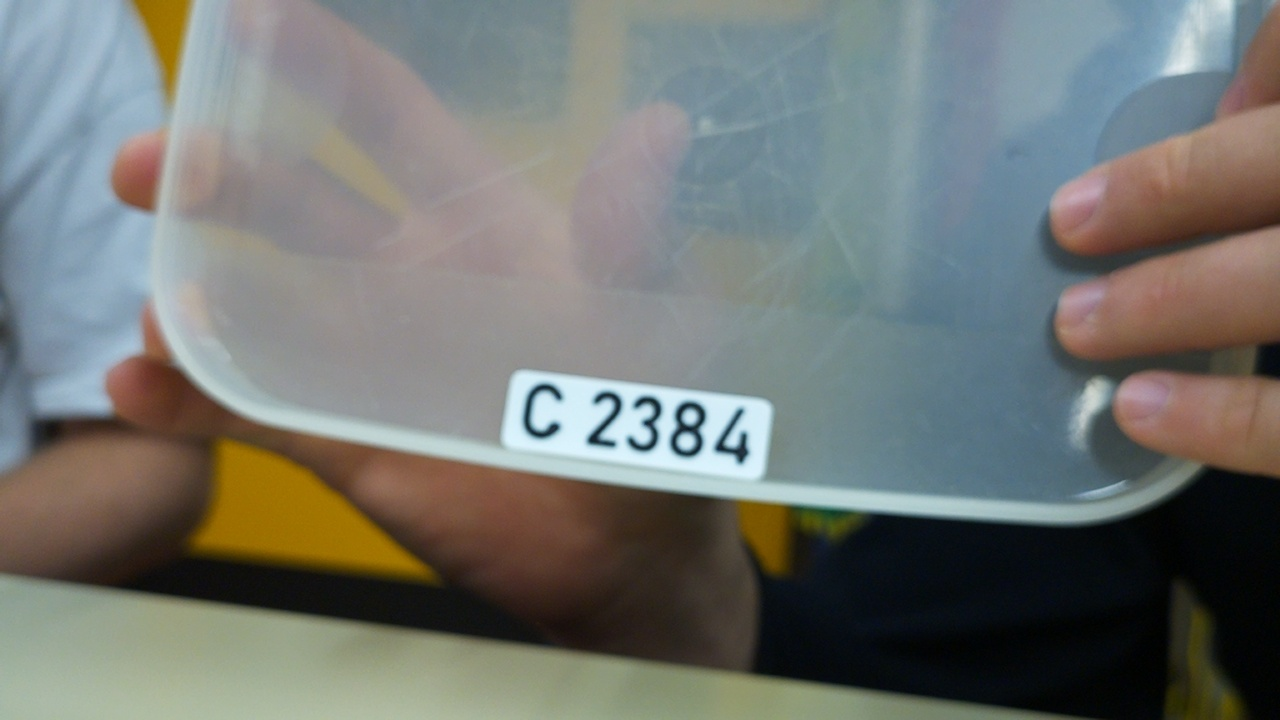license_plate: (499, 365, 777, 485)
